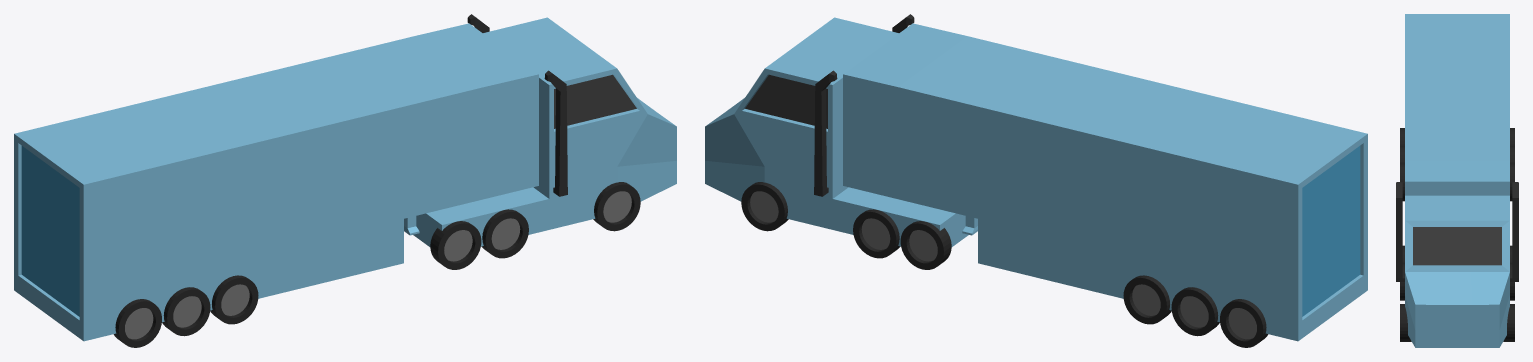
The model's file is truck.glb.
3 views of the same model, side by side, from view 1: azimuth 30°, elevation 25°; view 2: azimuth 150°, elevation 25°; view 3: azimuth 270°, elevation 25° (orthographic). The views are drawn at different scales.
Visible parts, largest first — view 1: Truck; view 2: Truck; view 3: Truck.
Part boxes in pixels (x1,y1,x2,y2): Truck: (14,14,676,347); Truck: (705,14,1367,347); Truck: (1396,14,1518,347).
Size of the model in its own units: 11.2 by 3.13 by 2.64.
Materials: 1 (1 with a texture image).
